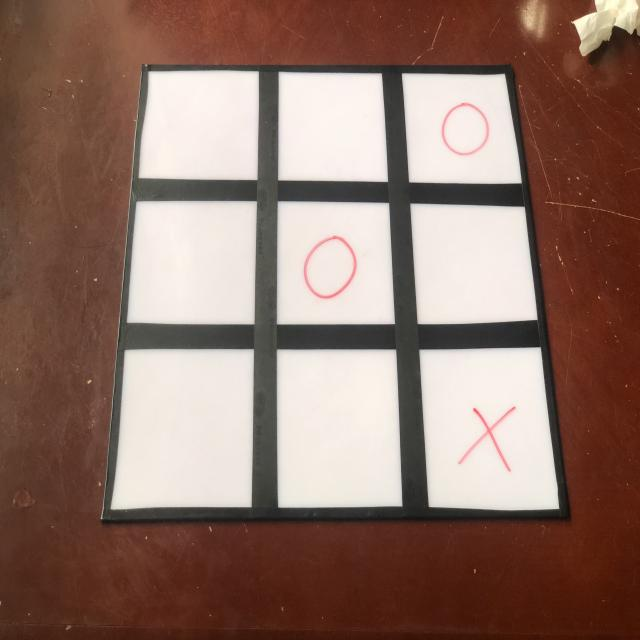null: (112, 348, 253, 511), (274, 345, 405, 509), (126, 199, 256, 325), (411, 197, 537, 325), (137, 70, 259, 180), (277, 71, 389, 183)
o: (301, 231, 362, 306), (440, 95, 492, 161)
table: (98, 64, 571, 519)
x: (456, 401, 519, 478)
